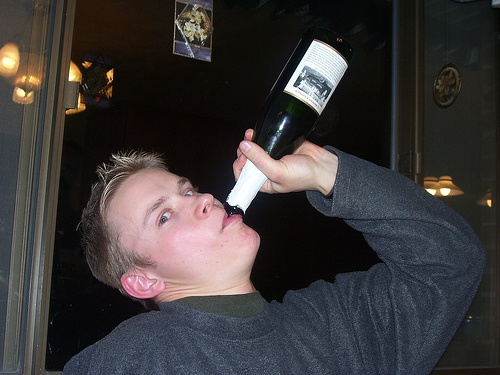head: (79, 153, 261, 302)
person: (27, 109, 473, 375)
